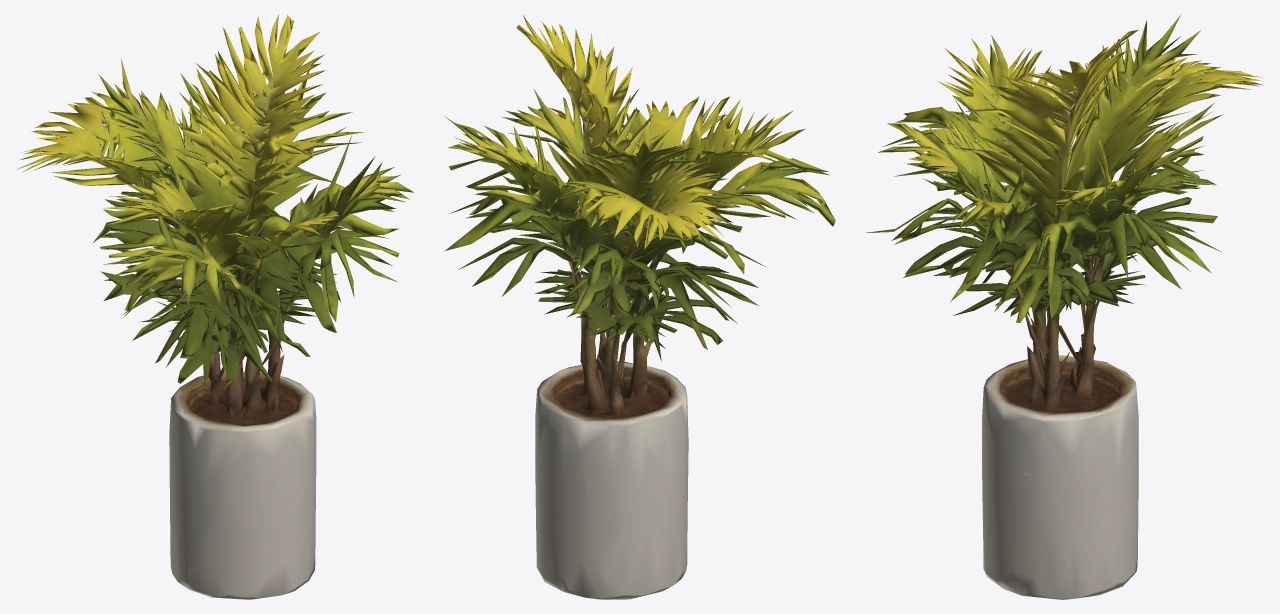
Rendered from pot_pohon.glb.
3 renders of one model, left to right at view 1: azimuth 30°, elevation 25°; view 2: azimuth 150°, elevation 25°; view 3: azimuth 270°, elevation 25°, orthographic. The views are drawn at different scales.
Parts seen in each view (by area): view 1: tripo_node_3a740da6-b86d-4b4c-af4e-c83ffe172755; view 2: tripo_node_3a740da6-b86d-4b4c-af4e-c83ffe172755; view 3: tripo_node_3a740da6-b86d-4b4c-af4e-c83ffe172755.
Boxes of the visible parts, left/top/right/bottom form: tripo_node_3a740da6-b86d-4b4c-af4e-c83ffe172755: left=16, top=14, right=413, bottom=599; tripo_node_3a740da6-b86d-4b4c-af4e-c83ffe172755: left=444, top=15, right=835, bottom=599; tripo_node_3a740da6-b86d-4b4c-af4e-c83ffe172755: left=866, top=15, right=1263, bottom=599.
Size of the model in its own units: 0.6273 by 1 by 0.6503.
1 material, 1 textured.
